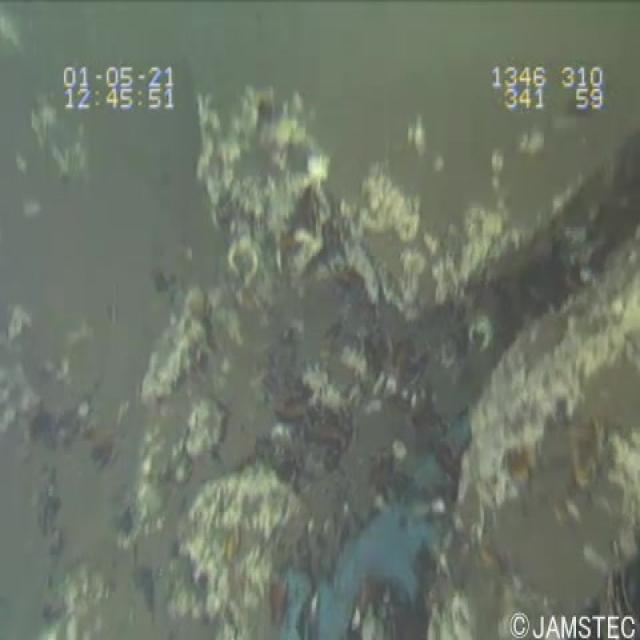plastic: (268, 411, 488, 638)
